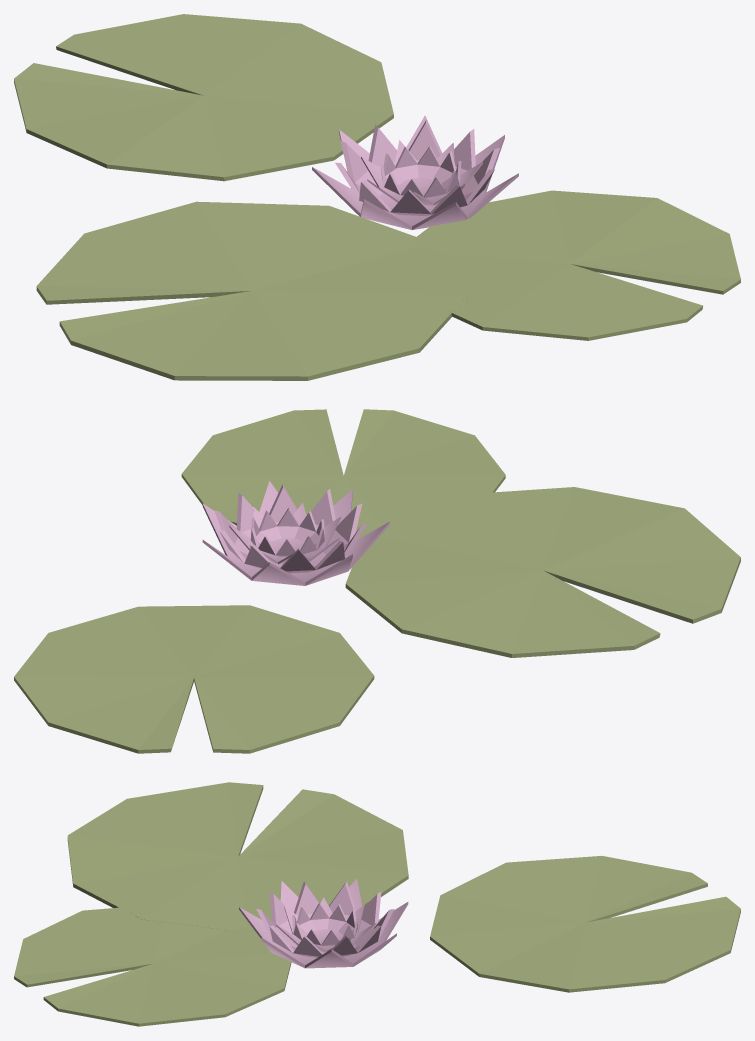
Rendered from ER_Asset_Waterlily02.fbx.
3 renders of one model, top to bottom at view 1: azimuth 30°, elevation 25°; view 2: azimuth 150°, elevation 25°; view 3: azimuth 270°, elevation 25°, orthographic. The views are drawn at different scales.
Parts seen in each view (by area): view 1: pCylinder66; view 2: pCylinder66; view 3: pCylinder66.
Part boxes in pixels (bbox=[...]): pCylinder66: bbox=[14, 14, 740, 380]; pCylinder66: bbox=[14, 409, 740, 753]; pCylinder66: bbox=[14, 782, 740, 1026].
Bounding box in the file's own units: 2.18 × 0.1744 × 2.78.
